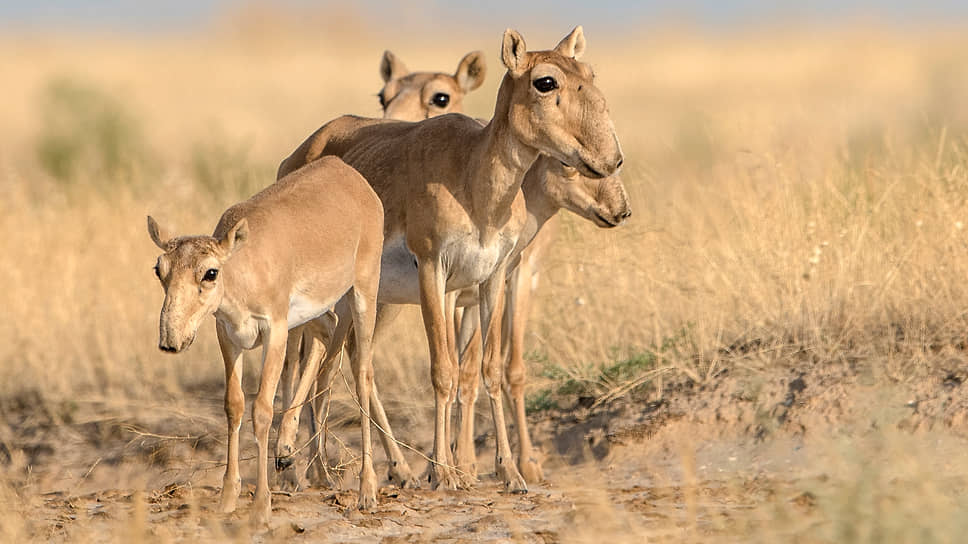saiga: (279, 24, 624, 493), (146, 154, 378, 518)
